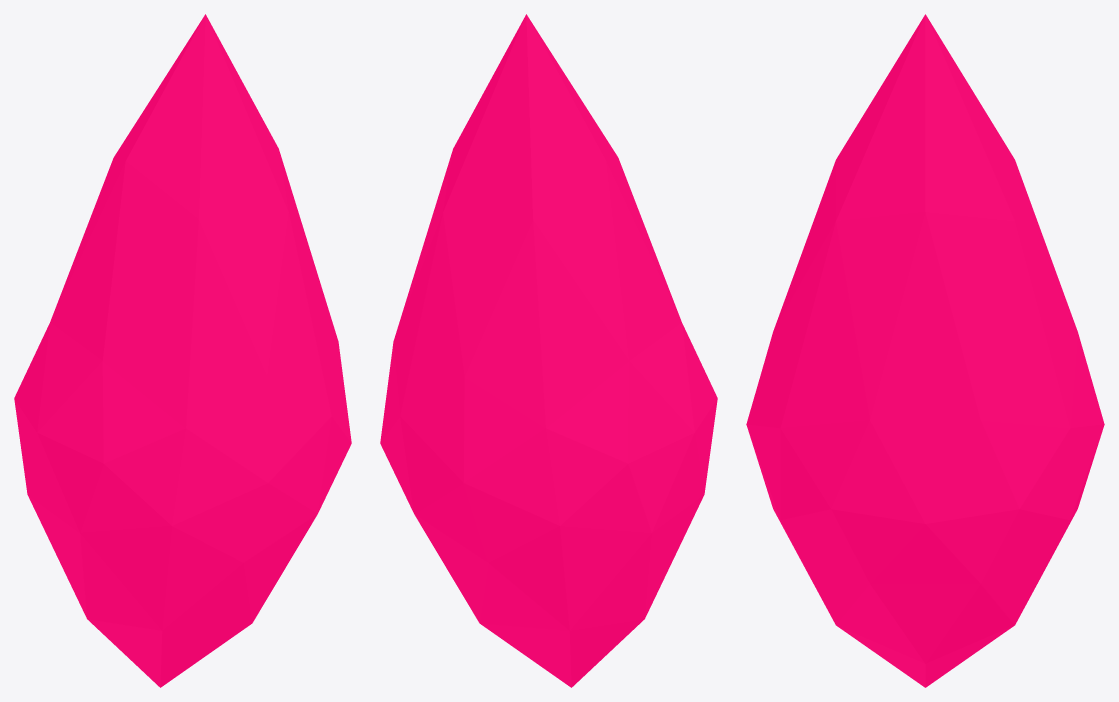
The model's file is 3.2_exam_3dscene_Gem4_simpletextured.glb.
3 renders of one model, left to right at view 1: azimuth 30°, elevation 25°; view 2: azimuth 150°, elevation 25°; view 3: azimuth 270°, elevation 25°, orthographic. The views are drawn at different scales.
Parts seen in each view (by area): view 1: Gem4; view 2: Gem4; view 3: Gem4.
Part boxes in pixels (x1,y1,x2,y2): Gem4: [14, 14, 351, 687]; Gem4: [380, 14, 717, 687]; Gem4: [746, 14, 1104, 687].
Size of the model in its own units: 1.51 by 3.29 by 1.53.
